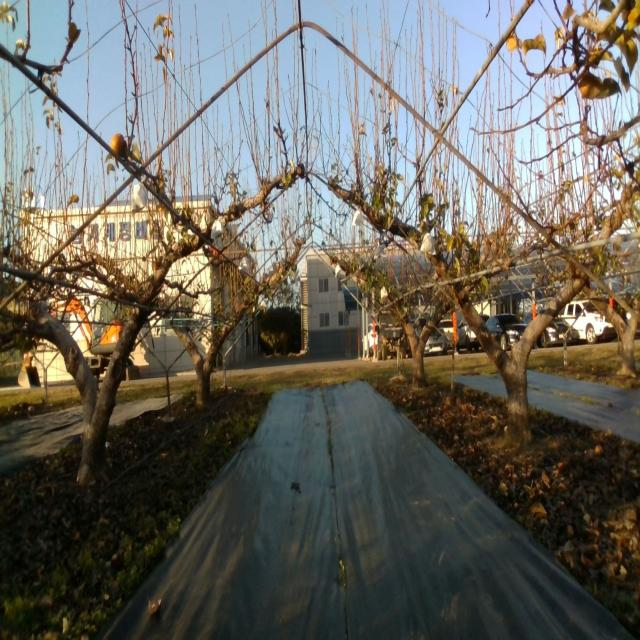pearbags: (131, 173, 148, 217), (420, 232, 437, 256), (210, 216, 224, 240), (352, 209, 364, 227)
